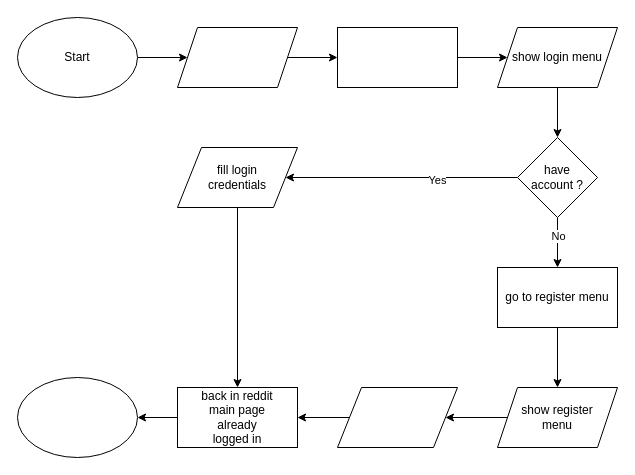
This 635x475 diagram has some shape labels left out. The centre of each missing label's shape, as x and y in pixels:
end: the point at 77,417
fill in email, username and password.: the point at 397,417
go to login menu: the point at 397,57
reddit main page: the point at 237,57
